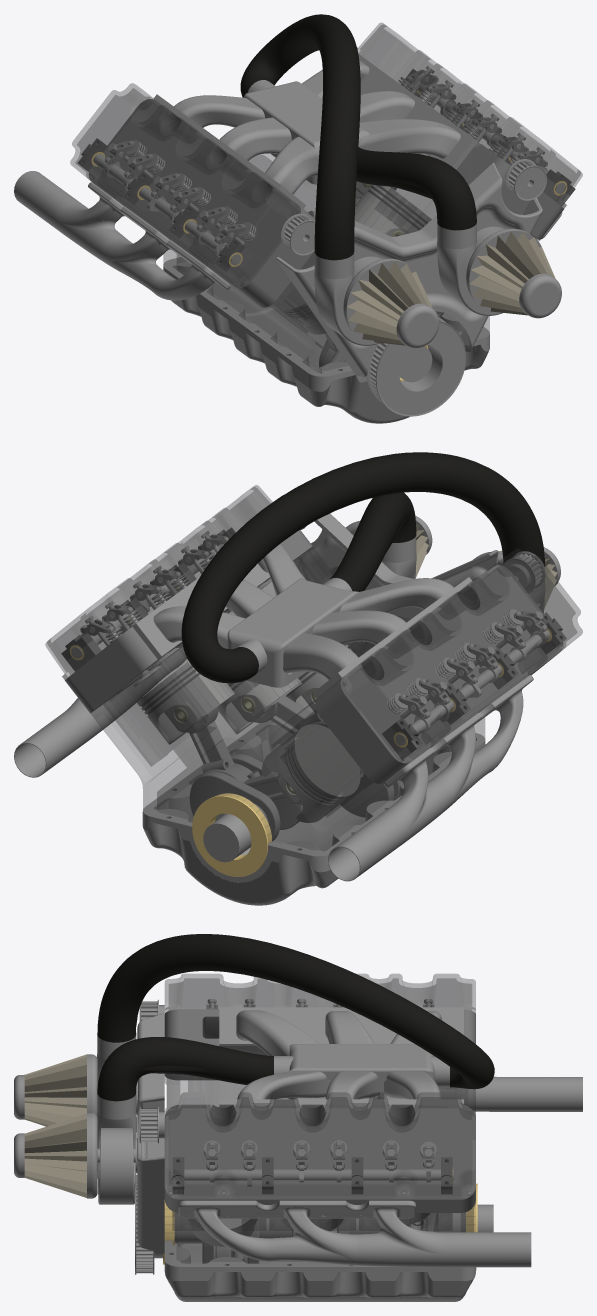
File: car_engine-v2.glb
3 views of the same model, one above another, from view 1: azimuth 30°, elevation 25°; view 2: azimuth 150°, elevation 25°; view 3: azimuth 270°, elevation 25° (orthographic). The views are drawn at different scales.
Parts seen in each view (by area): view 1: Car 2-Turbo V6 Engine Asembly Designing; view 2: Car 2-Turbo V6 Engine Asembly Designing; view 3: Car 2-Turbo V6 Engine Asembly Designing.
Boxes of the visible parts, x1,y1,x2,y2 form: Car 2-Turbo V6 Engine Asembly Designing: [14, 14, 582, 423]; Car 2-Turbo V6 Engine Asembly Designing: [14, 452, 582, 905]; Car 2-Turbo V6 Engine Asembly Designing: [14, 934, 582, 1301].
Bounding box in the file's own units: 0.687 × 0.6189 × 0.928.
